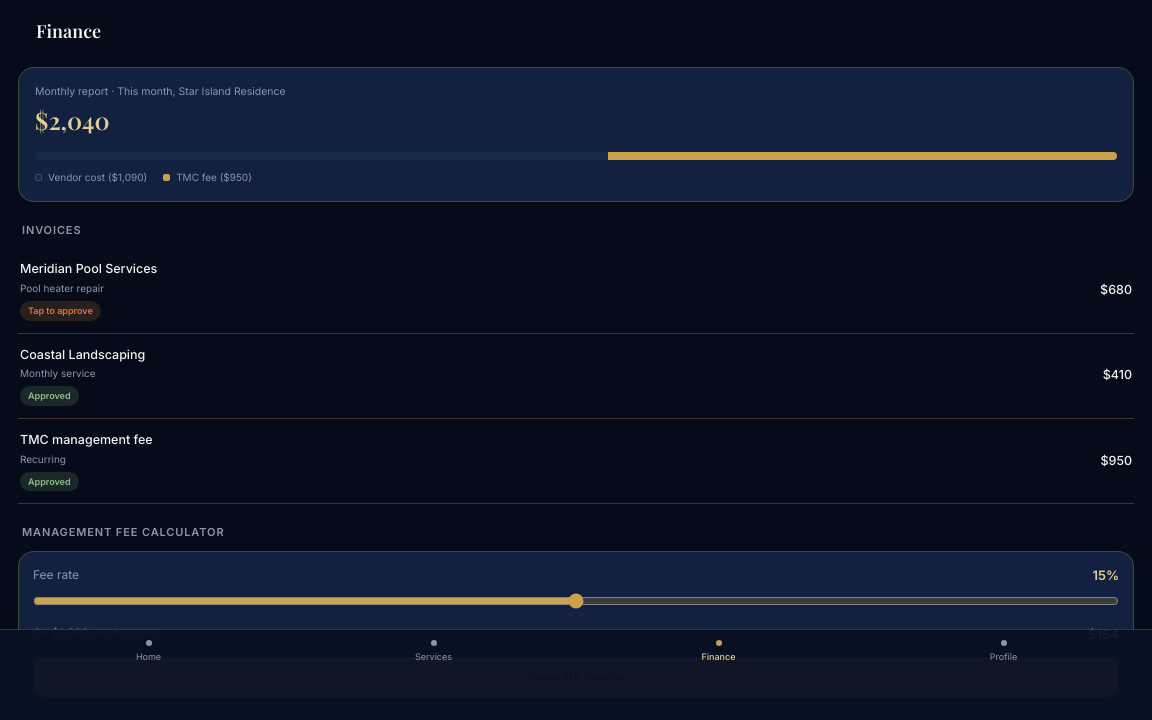
Scenario: Owner: Finance approval flow › tapping 'Tap to approve' marks the invoice Approved and removes the pending pill
The width and height of the screenshot is (1152, 720).
Expected: the text "Approved" is shown 2 times, left=20, top=386, right=78, bottom=406; left=20, top=472, right=78, bottom=491
Click the text "Tap to approve": (60,311) left=20, top=301, right=101, bottom=320
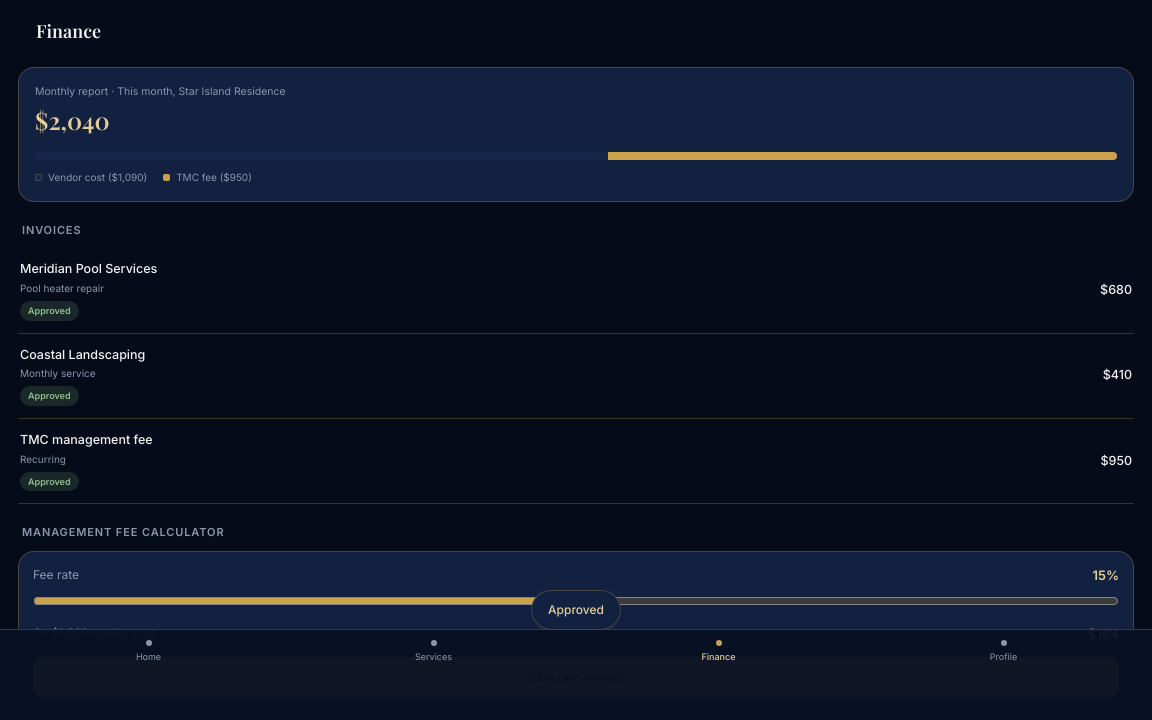
Result: the text "Approved" is shown 4 times at left=20, top=301, right=78, bottom=320; left=20, top=386, right=78, bottom=406; left=20, top=472, right=78, bottom=491; left=531, top=590, right=621, bottom=630
Result: the text "Tap to approve" is gone
